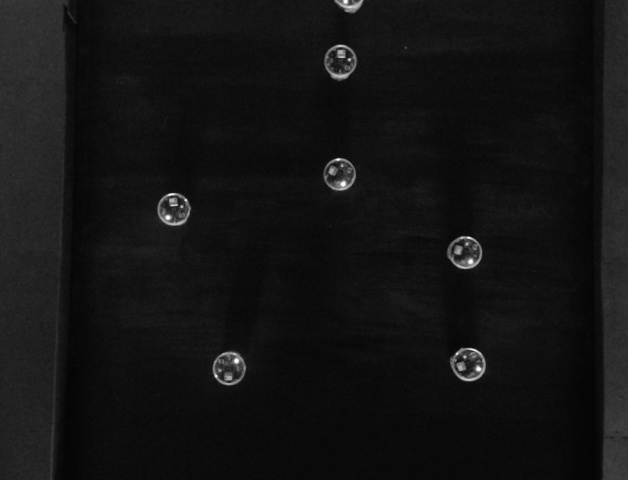epuck_2: (450, 345, 487, 383), (155, 190, 192, 227), (322, 156, 358, 194), (446, 234, 482, 271), (211, 349, 248, 384), (325, 43, 358, 80), (334, 1, 366, 17)
